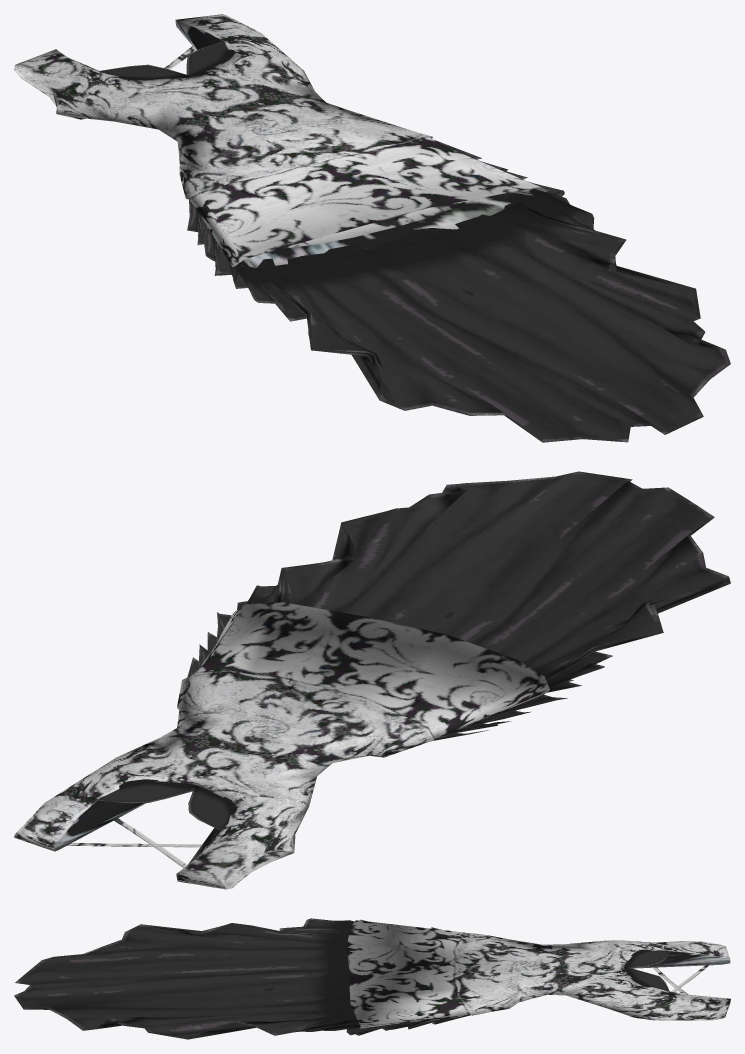
Rendered from DancerDress_Ground.fbx.
The picture shows the model from 3 angles, top to bottom: view 1: azimuth 30°, elevation 25°; view 2: azimuth 150°, elevation 25°; view 3: azimuth 270°, elevation 25°; orthographic projection. The views are drawn at different scales.
Parts seen in each view (by area): view 1: DancerDress; view 2: DancerDress; view 3: DancerDress.
Boxes of the visible parts, x1,y1,x2,y2 form: DancerDress: [14, 14, 730, 442]; DancerDress: [14, 471, 730, 889]; DancerDress: [14, 918, 730, 1039].
Size of the model in its own units: 0.2661 by 0.0332 by 0.6928.
